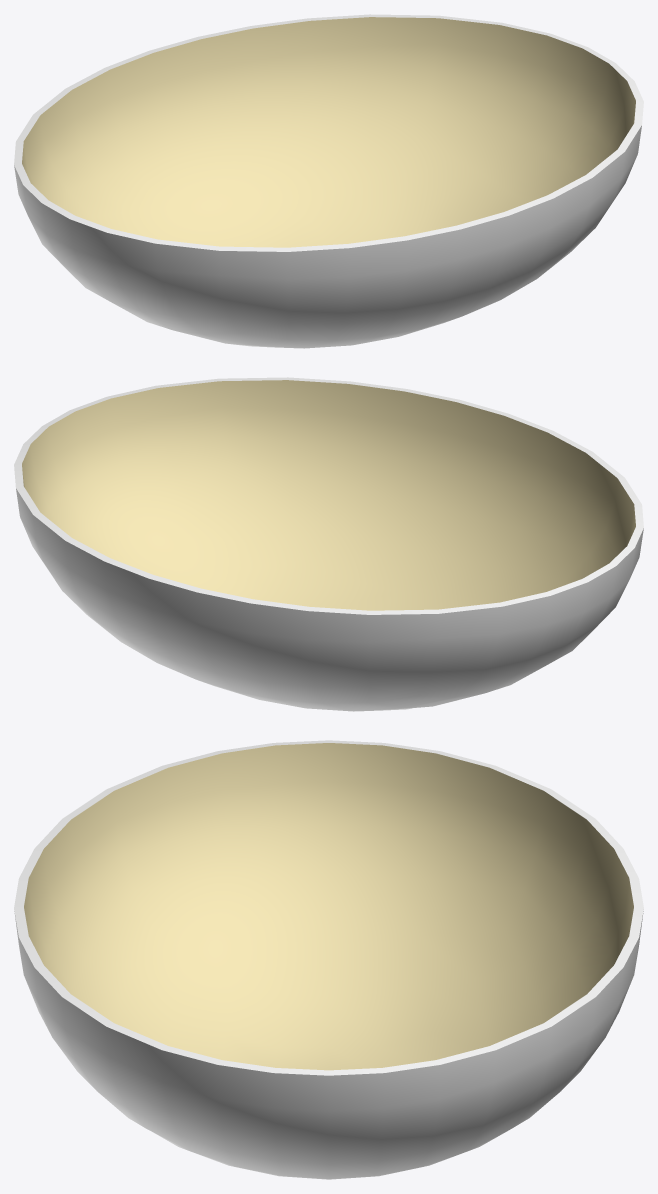
File: dish_round.obj
3 views of the same model, one above another, from view 1: azimuth 30°, elevation 25°; view 2: azimuth 150°, elevation 25°; view 3: azimuth 270°, elevation 25° (orthographic). The views are drawn at different scales.
Parts seen in each view (by area): view 1: dish_round.001; view 2: dish_round.001; view 3: dish_round.001.
Boxes of the visible parts, left/top/right/bottom form: dish_round.001: left=14, top=14, right=643, bottom=348; dish_round.001: left=14, top=377, right=643, bottom=711; dish_round.001: left=14, top=740, right=643, bottom=1179.
Bounding box in the file's own units: 0.2715 × 0.0785 × 0.2155.
